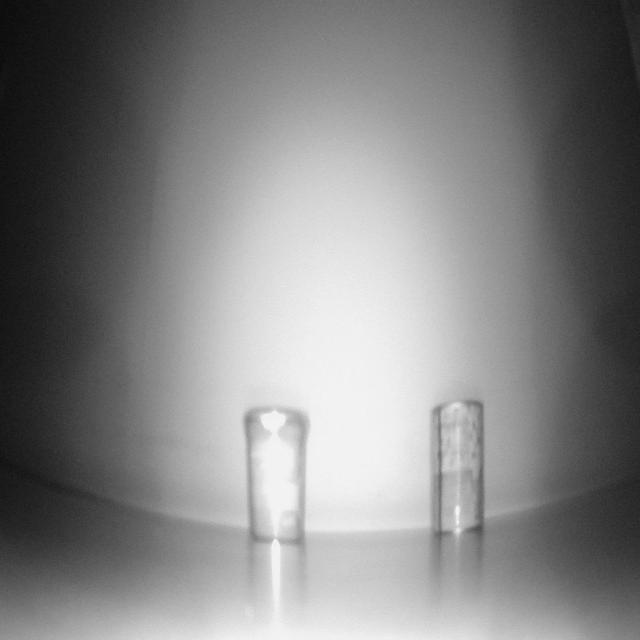targets: (247, 405, 315, 539), (428, 399, 488, 537)
